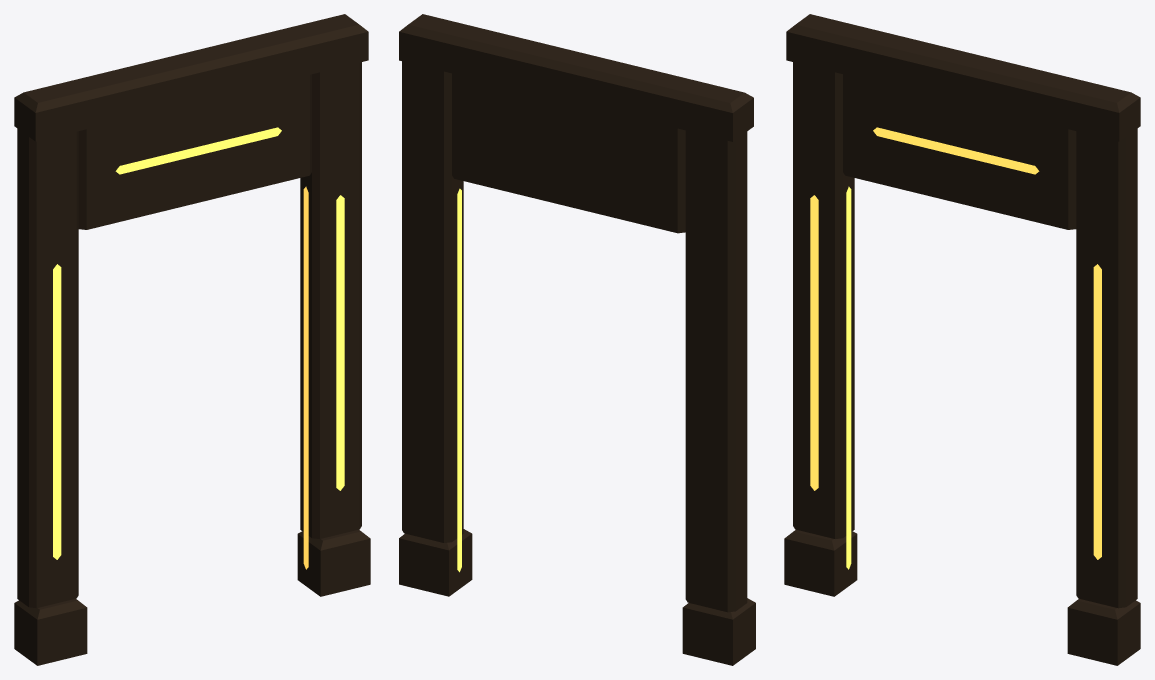
File: doorway_hard.glb
3 renders of one model, left to right at view 1: azimuth 30°, elevation 25°; view 2: azimuth 150°, elevation 25°; view 3: azimuth 330°, elevation 25°, orthographic.
Visible parts, largest first — view 1: Mesh; view 2: Mesh; view 3: Mesh.
Boxes of the visible parts, box(x1,y1,x2,y2) form: Mesh: box(14, 14, 370, 665); Mesh: box(399, 14, 755, 665); Mesh: box(784, 14, 1140, 665).
Size of the model in its own units: 2 by 3.2 by 0.24.
